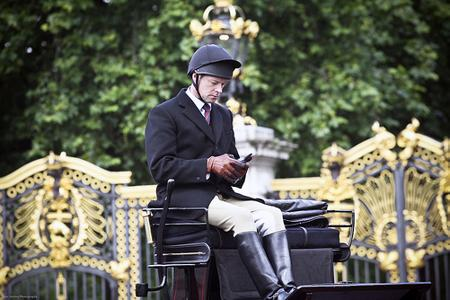person: (144, 46, 299, 300)
